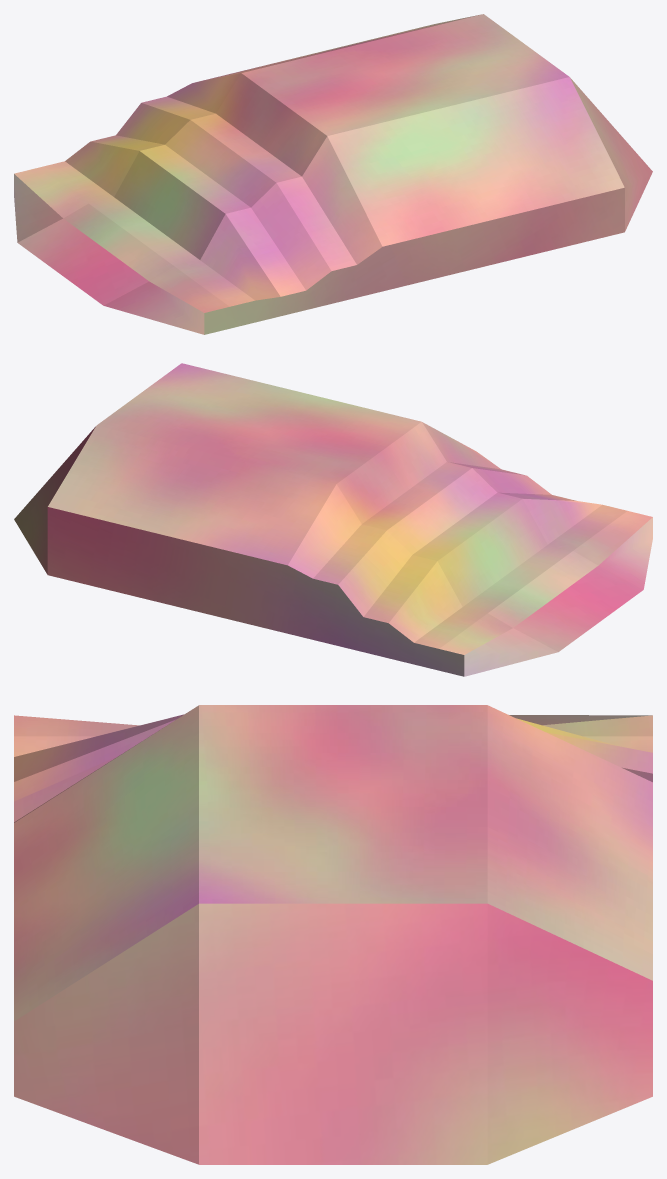
Rendered from piedra1.glb.
3 views of the same model, one above another, from view 1: azimuth 30°, elevation 25°; view 2: azimuth 150°, elevation 25°; view 3: azimuth 270°, elevation 25° (orthographic). The views are drawn at different scales.
Parts seen in each view (by area): view 1: piedra 1; view 2: piedra 1; view 3: piedra 1.
Part boxes in pixels (x1,y1,x2,y2): piedra 1: [14, 14, 652, 334]; piedra 1: [14, 363, 652, 676]; piedra 1: [14, 705, 652, 1164].
Size of what is drawn, in the model's own units: 4.41 by 0.8829 by 2.65.
Materials: 1 (1 with a texture image).
